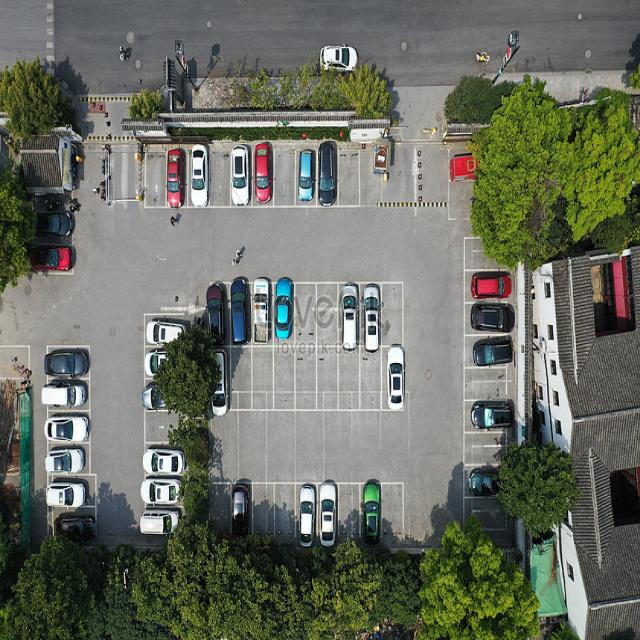libre: (226, 342, 385, 418), (339, 145, 416, 206), (251, 484, 298, 552), (462, 503, 514, 563), (292, 281, 337, 340), (137, 137, 165, 206), (462, 432, 512, 466), (338, 485, 359, 562), (466, 235, 509, 271), (201, 482, 226, 534), (383, 282, 403, 344), (465, 367, 506, 396), (213, 145, 230, 209), (276, 146, 292, 208), (386, 485, 400, 554)
ocupado: (40, 347, 97, 548), (200, 271, 292, 345), (142, 308, 192, 418), (135, 440, 188, 542), (461, 271, 519, 364), (24, 187, 78, 281), (167, 132, 213, 210), (231, 139, 272, 217), (297, 146, 339, 216), (341, 278, 380, 352), (460, 396, 522, 432), (465, 460, 509, 496), (385, 348, 408, 416)
